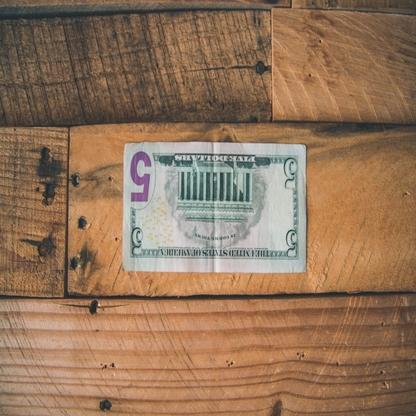five-back: (122, 144, 309, 274)
